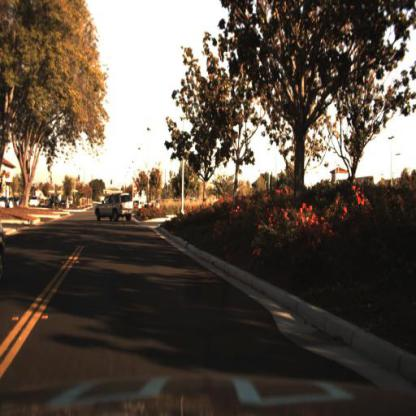car: (86, 189, 139, 233), (27, 193, 44, 212)
